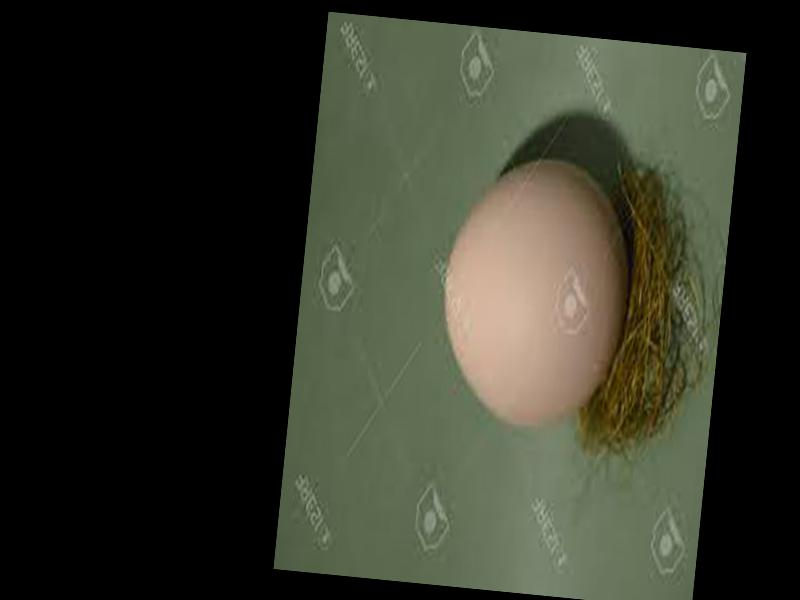Eggs: (431, 150, 637, 433)
